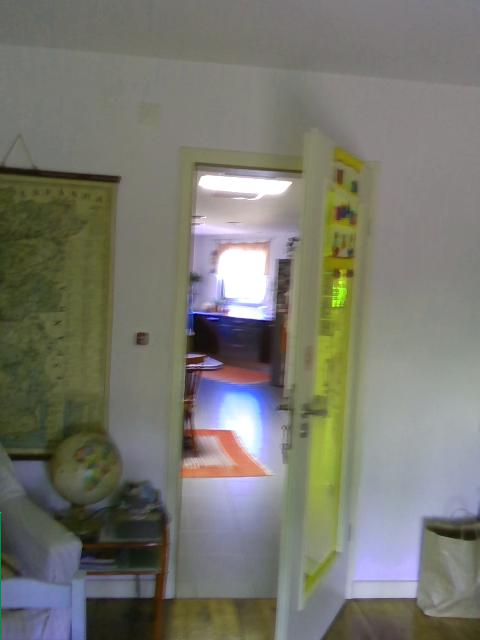semi_door: (160, 122, 373, 639)
